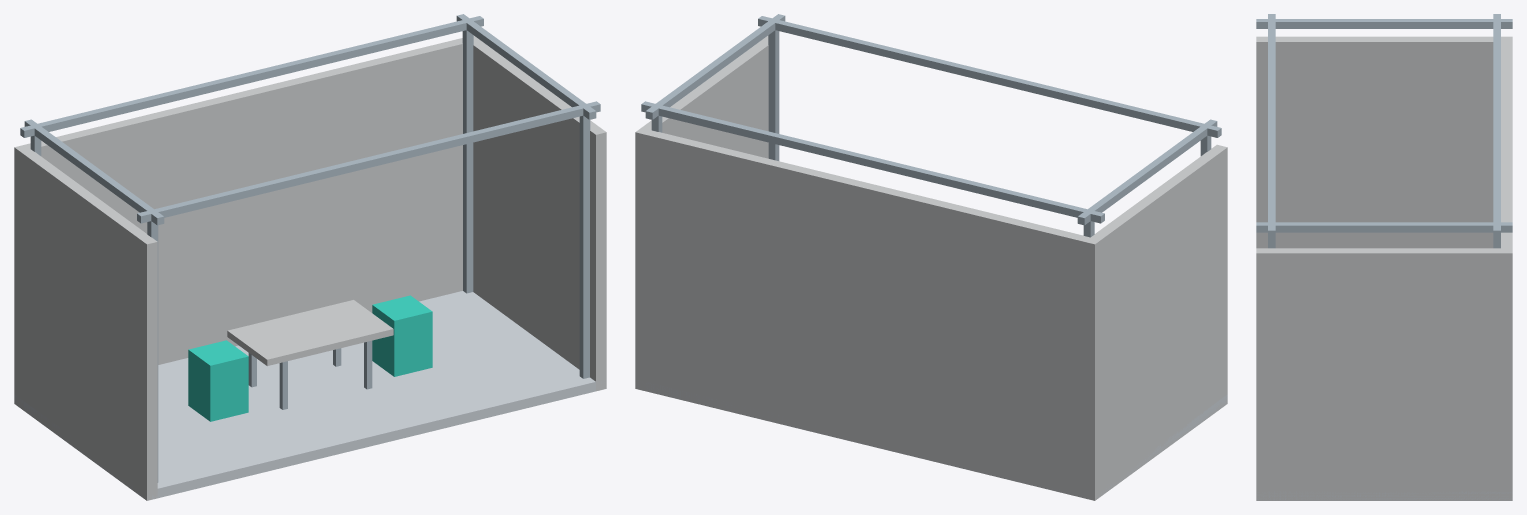
3 views of the same model, side by side, from view 1: azimuth 30°, elevation 25°; view 2: azimuth 150°, elevation 25°; view 3: azimuth 270°, elevation 25° (orthographic). The views are drawn at different scales.
Visible parts, largest first — view 1: Exhibition Booth Concept; view 2: Exhibition Booth Concept; view 3: Exhibition Booth Concept.
Part boxes in pixels (x1=…): Exhibition Booth Concept: x1=14, y1=14, x2=606, y2=500; Exhibition Booth Concept: x1=635, y1=14, x2=1227, y2=500; Exhibition Booth Concept: x1=1256, y1=14, x2=1512, y2=500.
Size of the model in its own units: 6 by 3.49 by 3.
